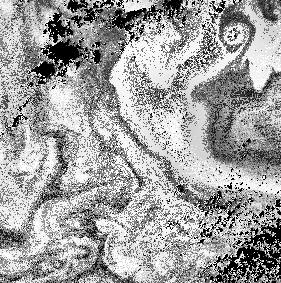CE: (217, 10, 257, 53)
